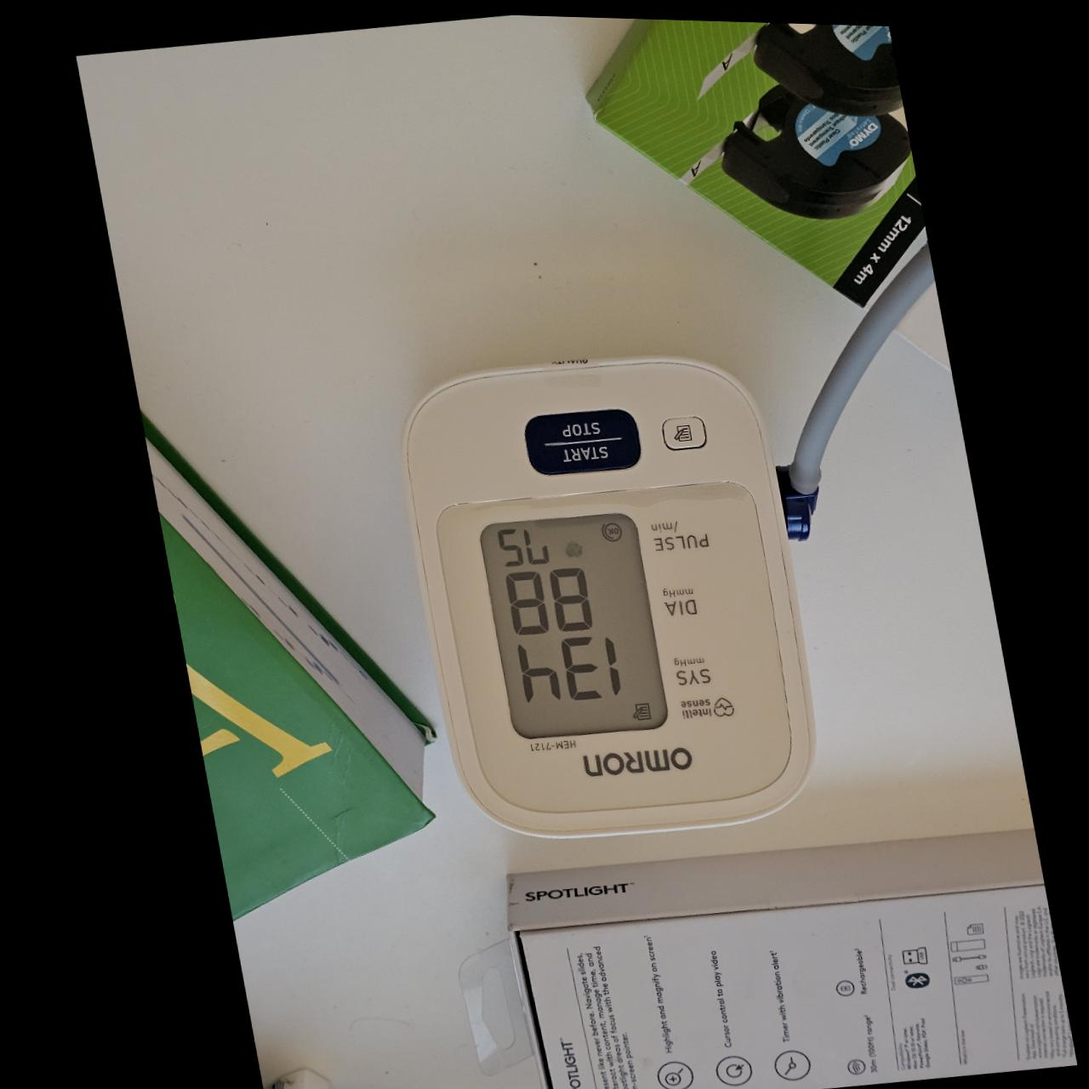blood pressure monitor: (373, 326, 840, 863)
